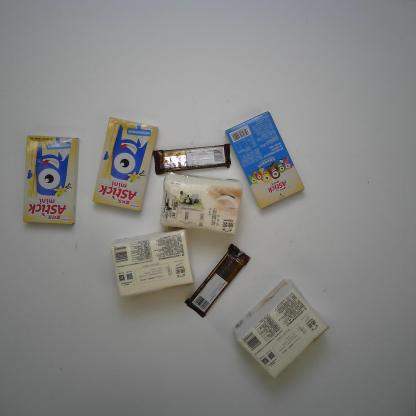Chocolate: (185, 241, 253, 321), (150, 141, 232, 176)
Dessert: (224, 110, 306, 214), (90, 114, 160, 214), (21, 134, 81, 229)
Tissue: (232, 276, 331, 380), (108, 227, 196, 300), (158, 167, 244, 236)
